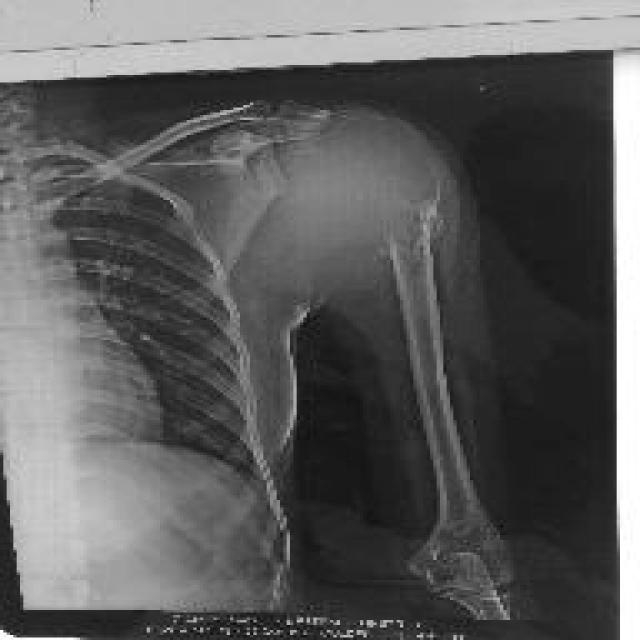bone-cancer: (233, 106, 477, 296)
